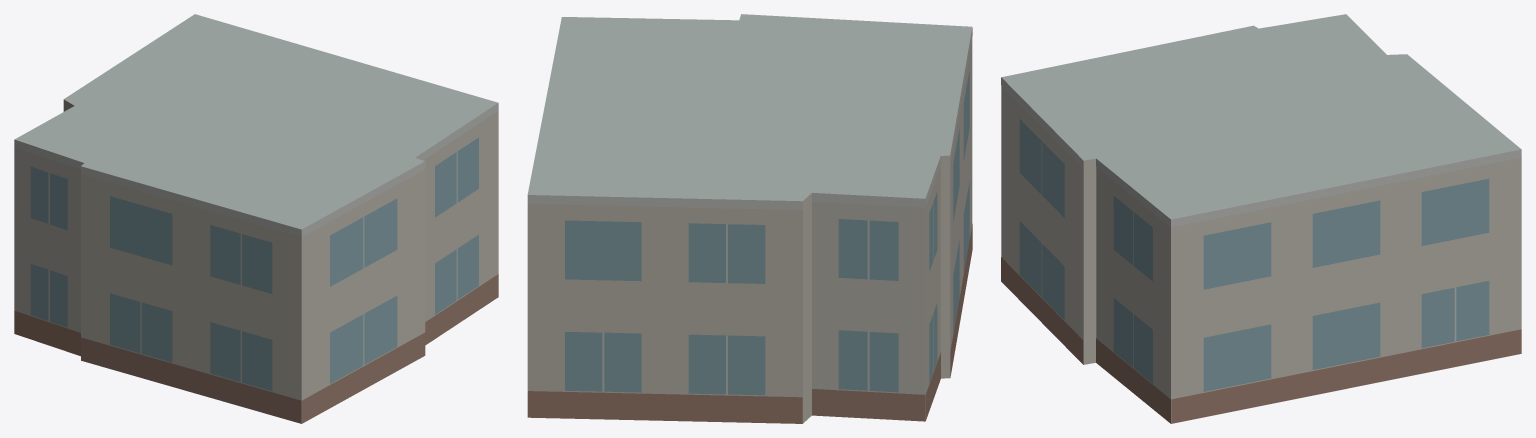
Rendered from survey-upis-32896853.glb.
The picture shows the model from 3 angles, left to right: view 1: azimuth 30°, elevation 25°; view 2: azimuth 150°, elevation 25°; view 3: azimuth 270°, elevation 25°; orthographic projection. The views are drawn at different scales.
Parts seen in each view (by area): view 1: survey-upis-32896853.tmp; view 2: survey-upis-32896853.tmp; view 3: survey-upis-32896853.tmp.
Boxes of the visible parts, bbox=[...] form: survey-upis-32896853.tmp: bbox=[14, 14, 498, 423]; survey-upis-32896853.tmp: bbox=[527, 14, 972, 423]; survey-upis-32896853.tmp: bbox=[1001, 14, 1521, 423].
Size of the model in its own units: 13.17 by 6.1 by 14.09.
